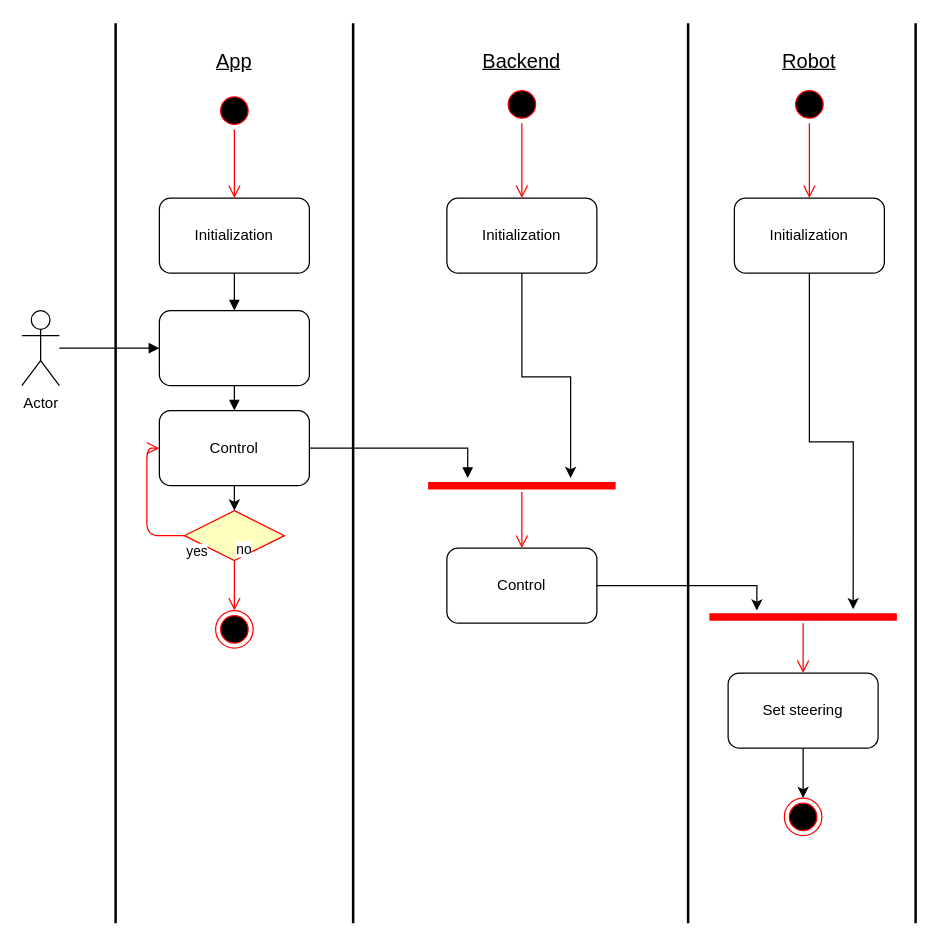
Some shapes in this 945 by 945 pixel diagram are drawn without their labels. Each missing label, with the centre of its shape:
Choose robot: point (233, 347)
Refresh: point (233, 535)
